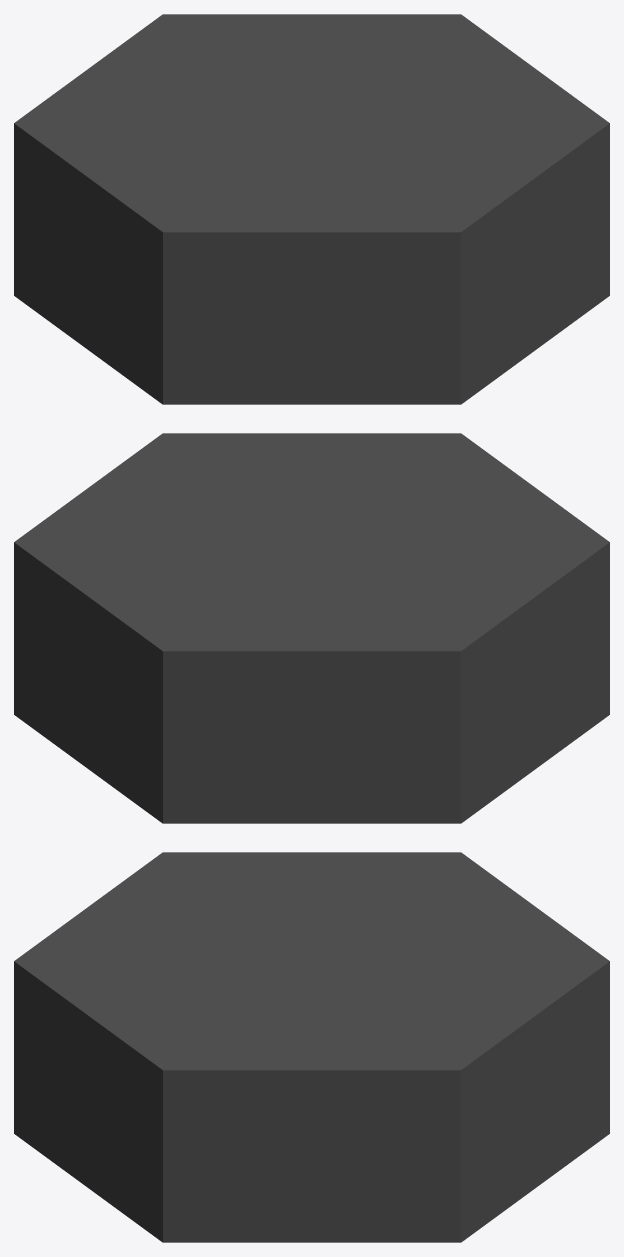
Rendered from Barrel Cap Gray.fbx.
3 views of the same model, one above another, from view 1: azimuth 30°, elevation 25°; view 2: azimuth 150°, elevation 25°; view 3: azimuth 270°, elevation 25° (orthographic).
Visible parts, largest first — view 1: Barrel Cap Gray; view 2: Barrel Cap Gray; view 3: Barrel Cap Gray.
Boxes of the visible parts, <box> form: Barrel Cap Gray: <box>14,14,609,404</box>; Barrel Cap Gray: <box>14,433,609,823</box>; Barrel Cap Gray: <box>14,852,609,1242</box>.
Size of the model in its own units: 12.66 by 4.67 by 14.62.
